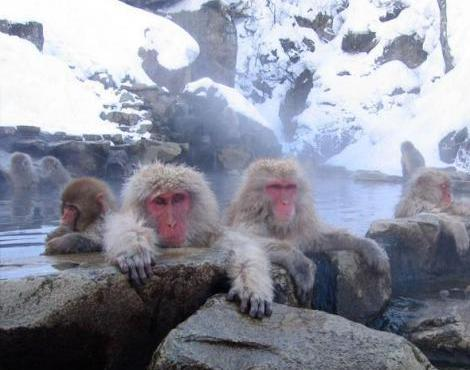monkey: (224, 159, 327, 267)
